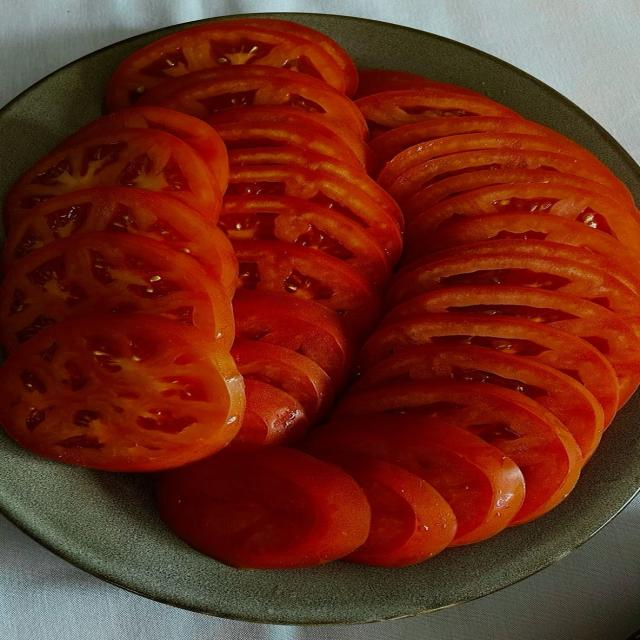sliced_tomato: (0, 314, 244, 471), (337, 381, 583, 525), (303, 406, 524, 545), (385, 285, 639, 404), (353, 344, 604, 459), (360, 313, 619, 424), (0, 232, 233, 350), (158, 447, 370, 568), (3, 187, 237, 295), (107, 22, 346, 111), (4, 129, 221, 227), (387, 240, 639, 318), (399, 213, 639, 294), (379, 132, 632, 201), (407, 182, 639, 257), (227, 165, 402, 264), (140, 66, 368, 139), (315, 451, 456, 567), (219, 196, 389, 286), (380, 143, 631, 203), (233, 240, 379, 340), (61, 106, 227, 191), (229, 146, 400, 219), (402, 167, 633, 220), (434, 212, 636, 271), (234, 289, 353, 389), (208, 105, 377, 172), (227, 18, 358, 95), (372, 116, 593, 161), (232, 339, 333, 423), (356, 89, 519, 137), (216, 122, 364, 170), (233, 379, 307, 446), (354, 69, 480, 99)
